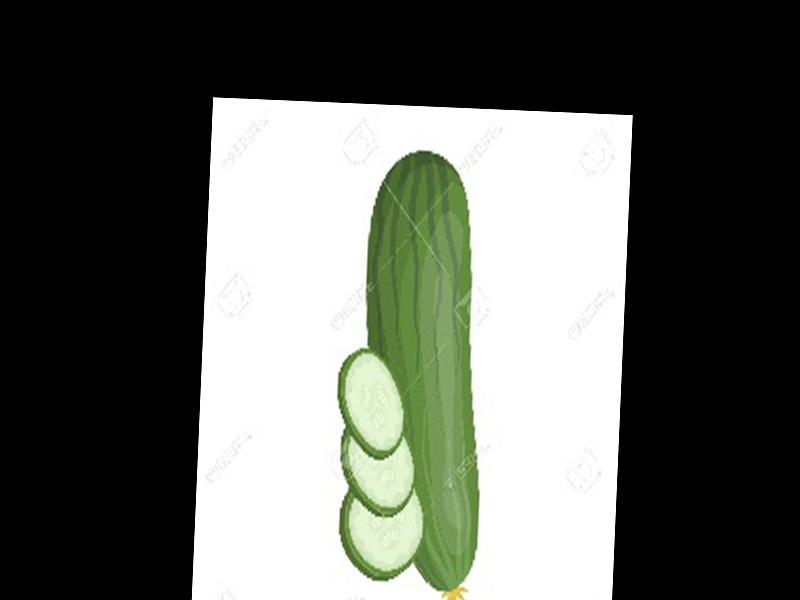Cucumber: (351, 145, 493, 600)
